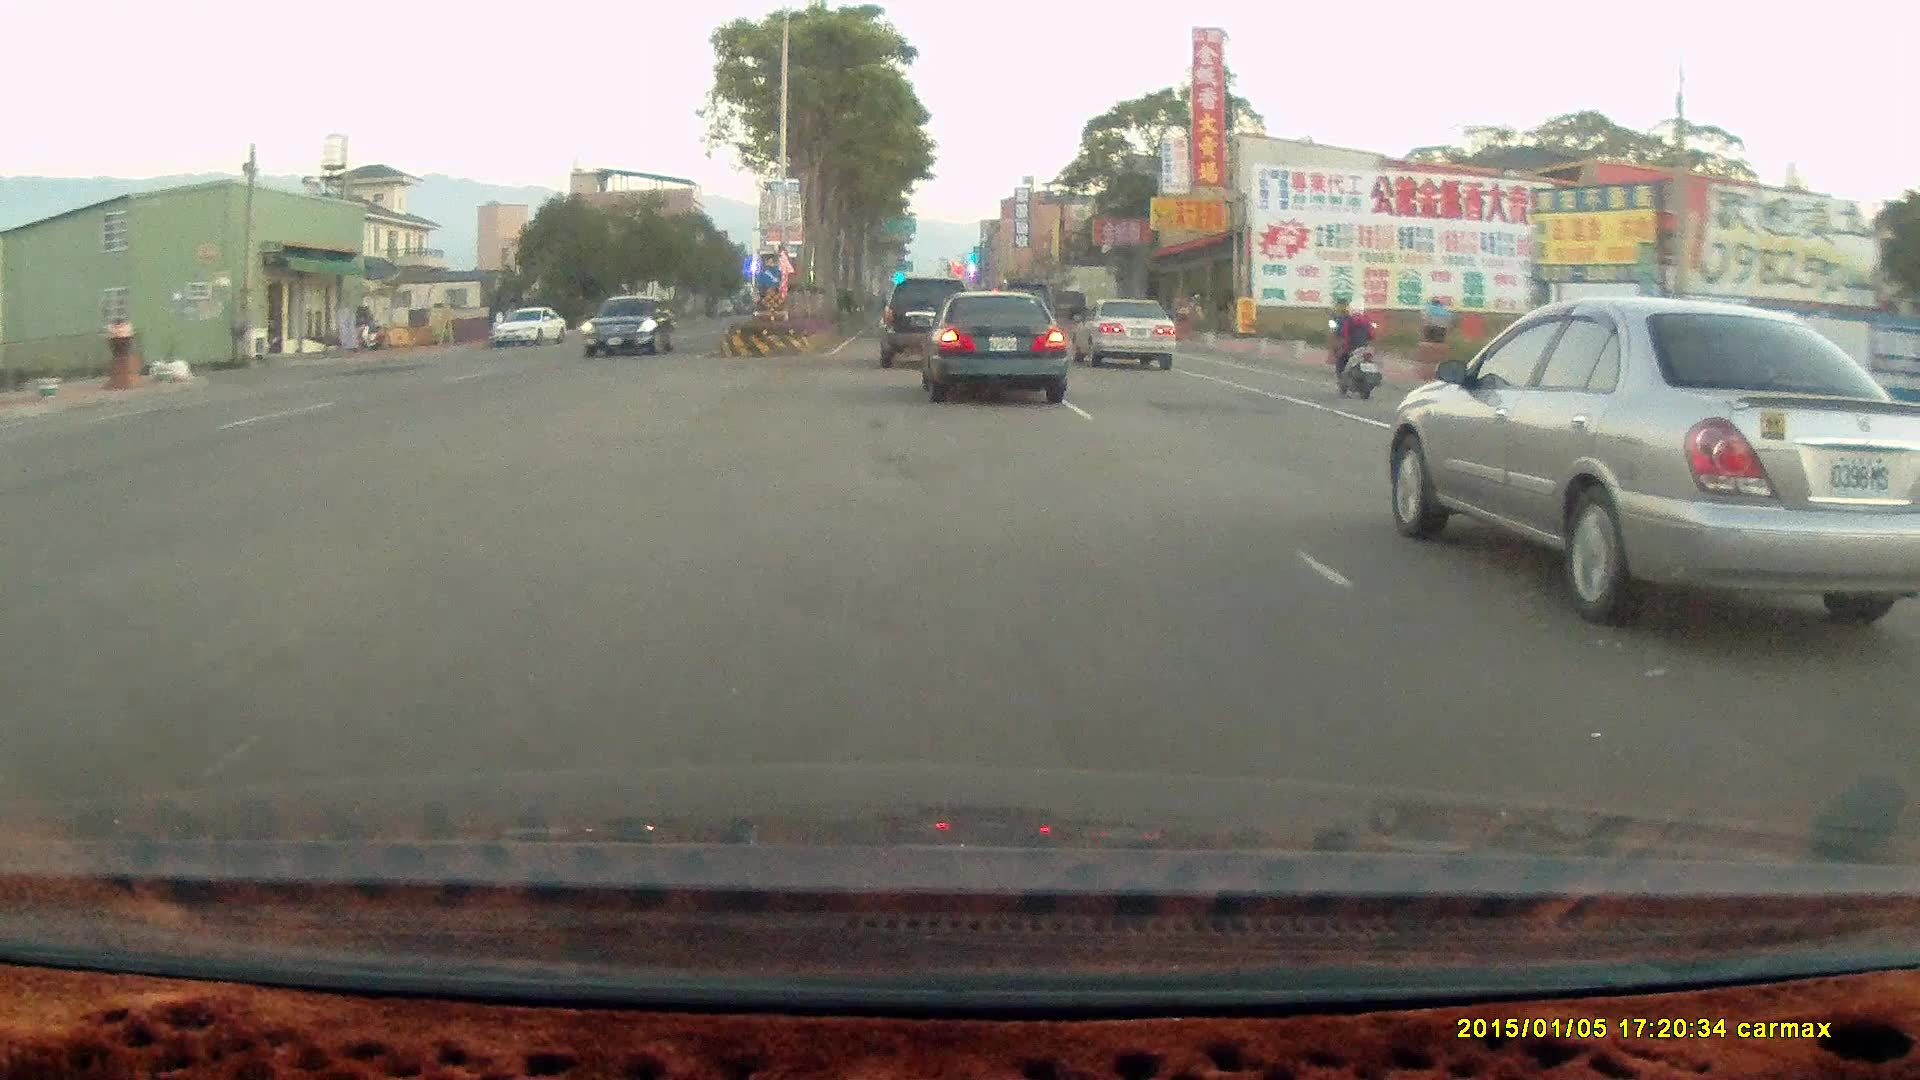rider: (1316, 285, 1392, 409), (1329, 297, 1382, 398)
vehicle: (1384, 295, 1920, 622), (915, 286, 1068, 401), (924, 291, 1070, 404), (880, 273, 977, 373), (878, 274, 972, 365), (1071, 295, 1177, 370), (1075, 298, 1180, 367), (589, 296, 680, 357), (580, 293, 673, 354), (491, 305, 569, 349), (491, 304, 567, 344)
